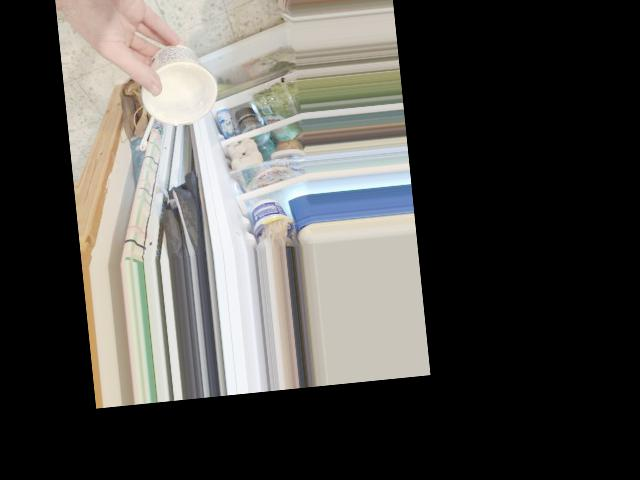cotage: (133, 37, 209, 128)
